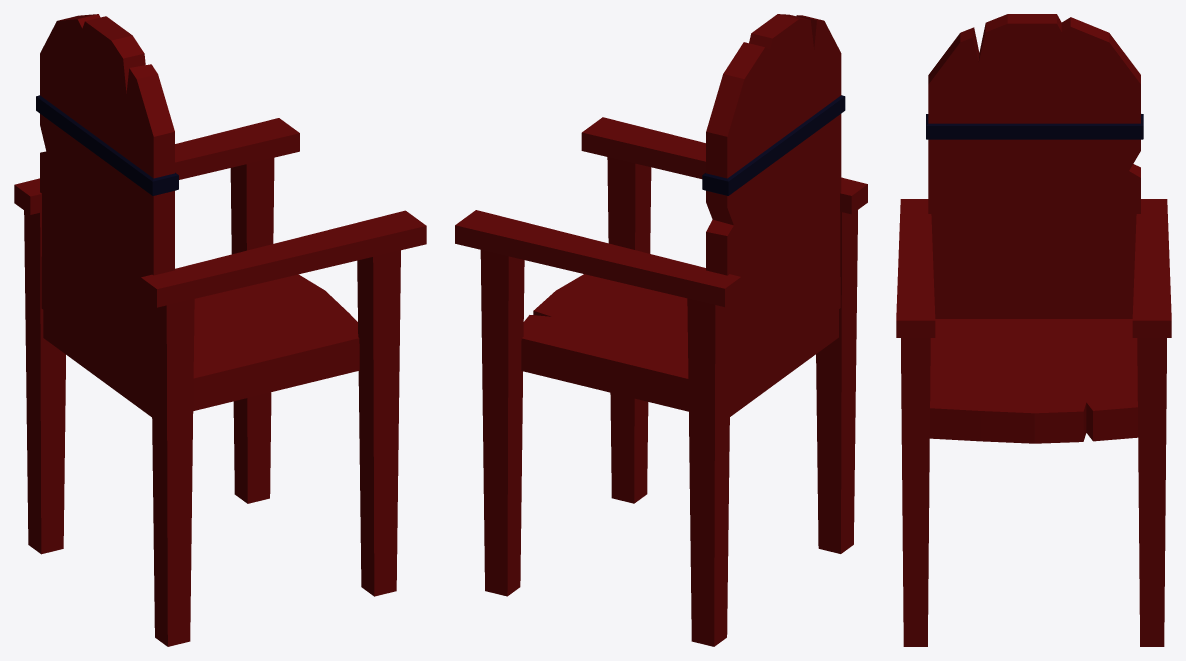
The model's file is Chairs 2 right size.fbx.
3 renders of one model, left to right at view 1: azimuth 30°, elevation 25°; view 2: azimuth 150°, elevation 25°; view 3: azimuth 270°, elevation 25°, orthographic. The views are drawn at different scales.
Parts seen in each view (by area): view 1: Cube.008; view 2: Cube.008; view 3: Cube.008.
Part boxes in pixels (box(x1,y1,x2,y2)): Cube.008: box(14, 14, 426, 646); Cube.008: box(455, 14, 867, 646); Cube.008: box(896, 14, 1171, 646).
Bounding box in the file's own units: 55.65 × 113 × 53.25.
